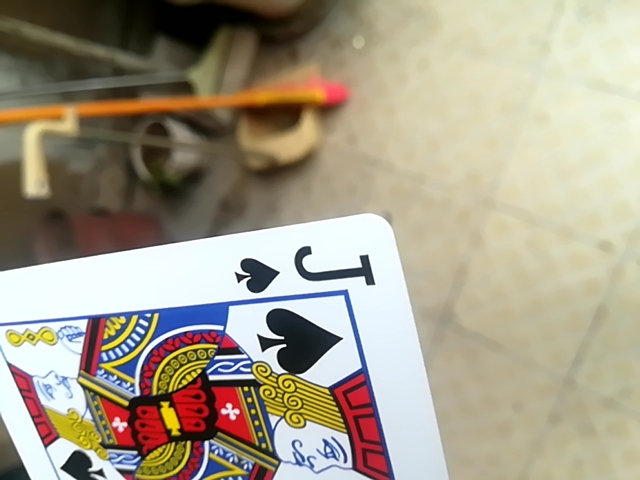ht j: (5, 212, 462, 480)
